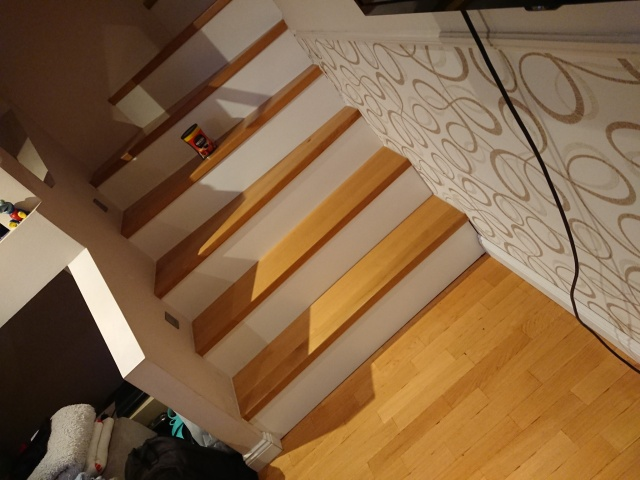Nescafe Classic 225g: (179, 121, 221, 162)
